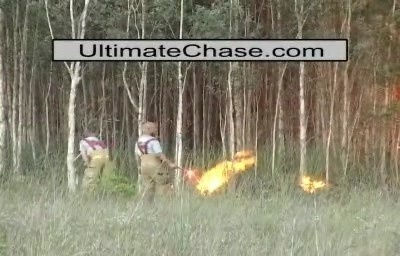fire: (182, 148, 255, 196), (296, 170, 331, 194)
